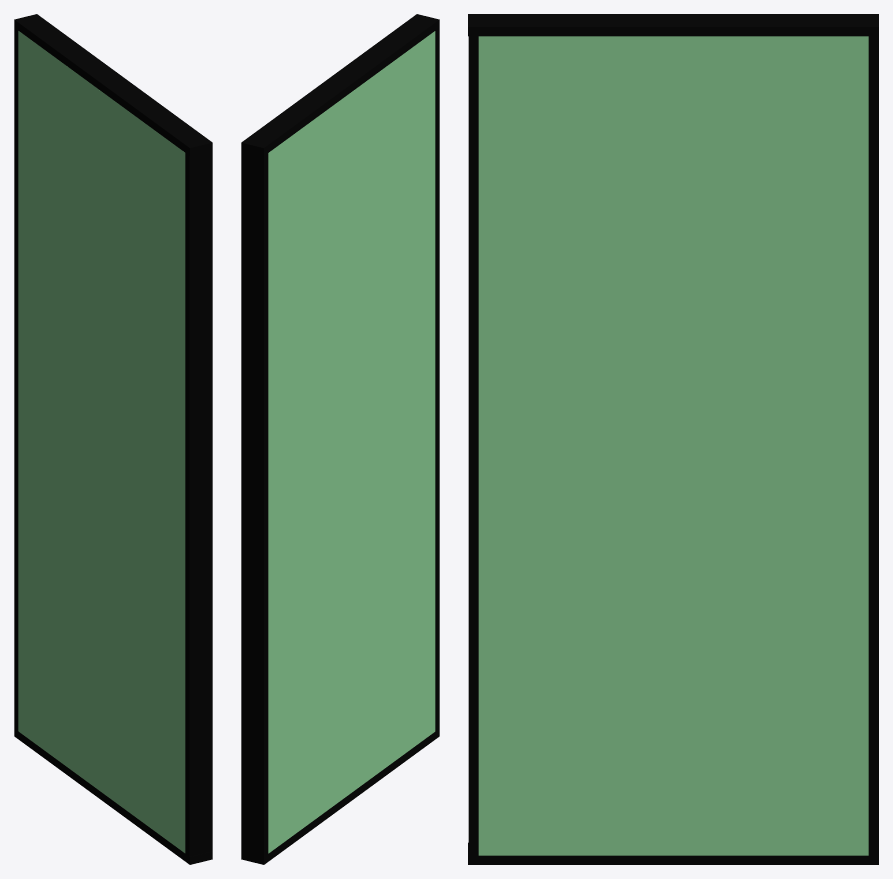
File: floor_tile1.glb
3 views of the same model, side by side, from view 1: azimuth 30°, elevation 25°; view 2: azimuth 150°, elevation 25°; view 3: azimuth 270°, elevation 25° (orthographic). The views are drawn at different scales.
Parts seen in each view (by area): view 1: floor, wood1.004; view 2: floor, wood1.004; view 3: floor, wood1.004.
Boxes of the visible parts, box(x1,y1,x2,y2) form: floor: box(18, 31, 185, 852); wood1.004: box(14, 14, 212, 864); floor: box(268, 31, 435, 853); wood1.004: box(241, 14, 439, 864); floor: box(478, 36, 868, 855); wood1.004: box(468, 14, 878, 864).
Bounding box in the file's own units: 0.6001 × 18 × 8.
